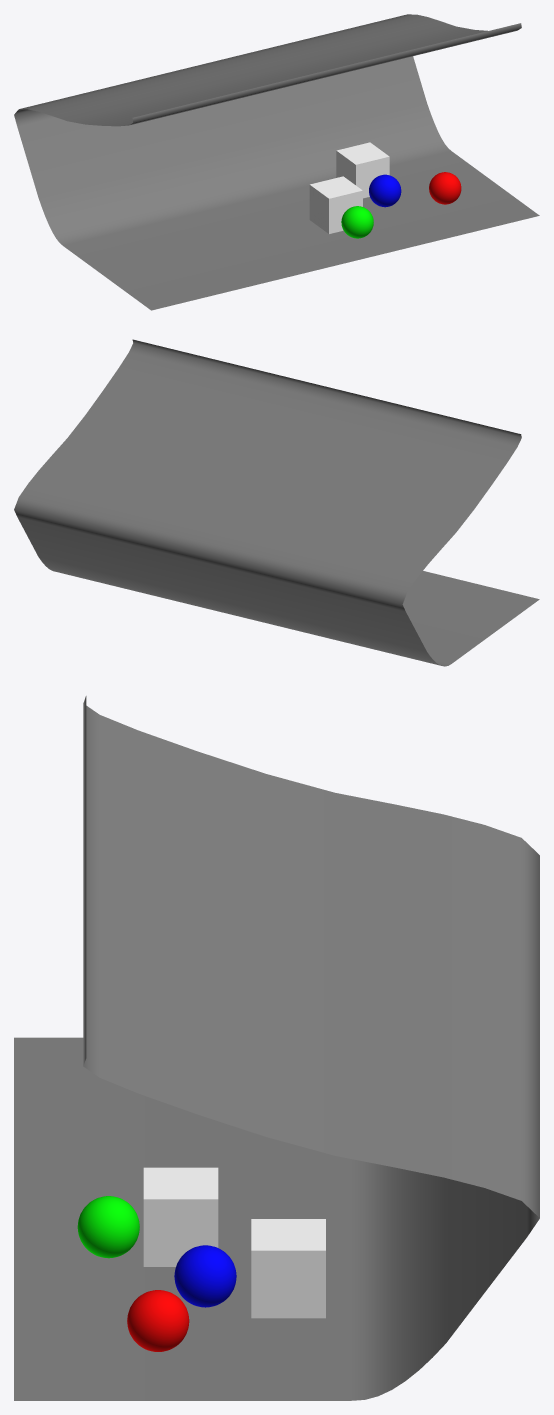
The model's file is TestLightmapScene.FBX.
The picture shows the model from 3 angles, top to bottom: view 1: azimuth 30°, elevation 25°; view 2: azimuth 150°, elevation 25°; view 3: azimuth 270°, elevation 25°; orthographic projection. The views are drawn at different scales.
Parts seen in each view (by area): view 1: Plane001, Object001, Object002, Sphere001, Sphere003, Sphere002; view 2: Plane001; view 3: Plane001, Object002, Object001, Sphere001, Sphere003, Sphere002.
Part boxes in pixels (box(x1,y1,x2,y2)): Plane001: box(14, 14, 539, 310); Object001: box(309, 176, 362, 233); Object002: box(336, 142, 389, 198); Sphere001: box(369, 174, 401, 207); Sphere003: box(341, 206, 373, 238); Sphere002: box(429, 172, 461, 204); Plane001: box(14, 339, 539, 666); Plane001: box(14, 696, 539, 1400); Object002: box(251, 1219, 325, 1318); Object001: box(143, 1167, 218, 1266); Sphere001: box(174, 1245, 236, 1307); Sphere003: box(77, 1196, 139, 1258); Sphere002: box(127, 1290, 189, 1351).
Size of the model in its own units: 162 by 71.78 by 99.38.
